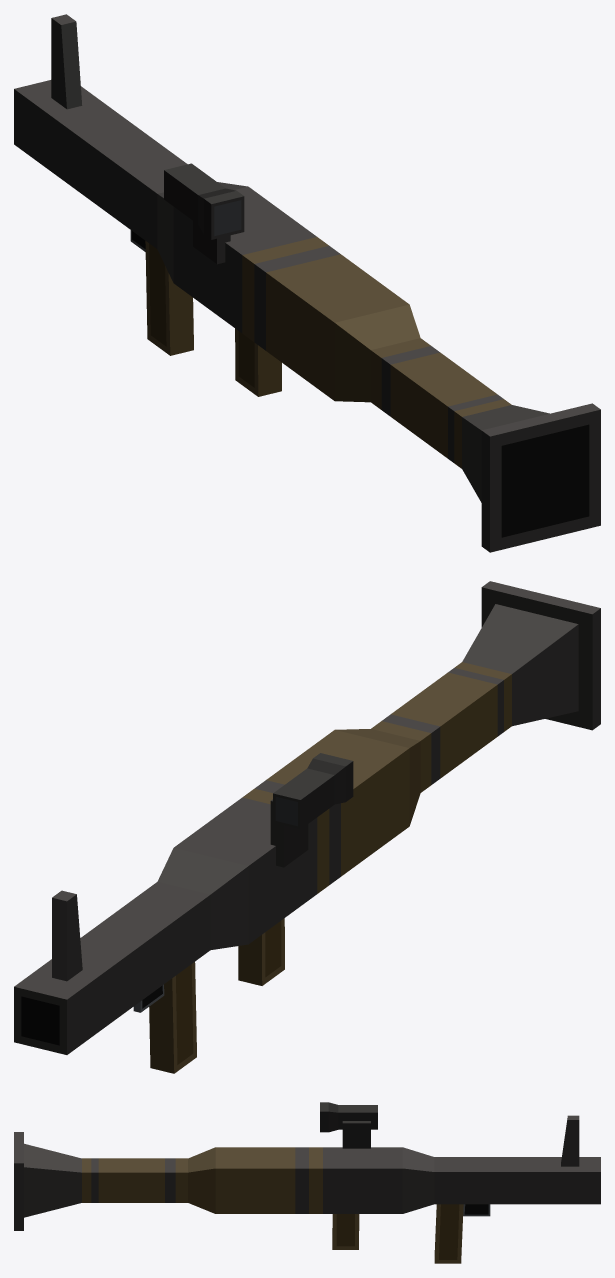
File: Wep_RPG7.fbx
3 views of the same model, one above another, from view 1: azimuth 30°, elevation 25°; view 2: azimuth 150°, elevation 25°; view 3: azimuth 270°, elevation 25° (orthographic). The views are drawn at different scales.
Parts seen in each view (by area): view 1: Wep_RPG7; view 2: Wep_RPG7; view 3: Wep_RPG7.
Boxes of the visible parts, bbox=[...] form: Wep_RPG7: bbox=[14, 14, 600, 552]; Wep_RPG7: bbox=[14, 581, 600, 1073]; Wep_RPG7: bbox=[14, 1102, 600, 1263].
Size of the model in its own units: 63.72 by 118 by 441.
